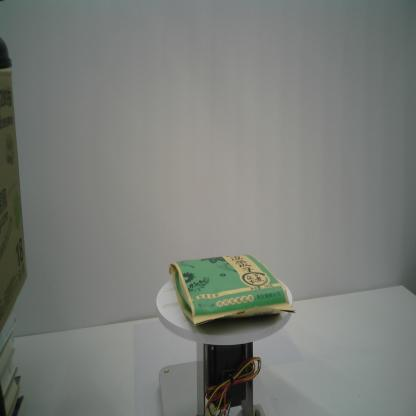Dried Food: (169, 254, 296, 328)
